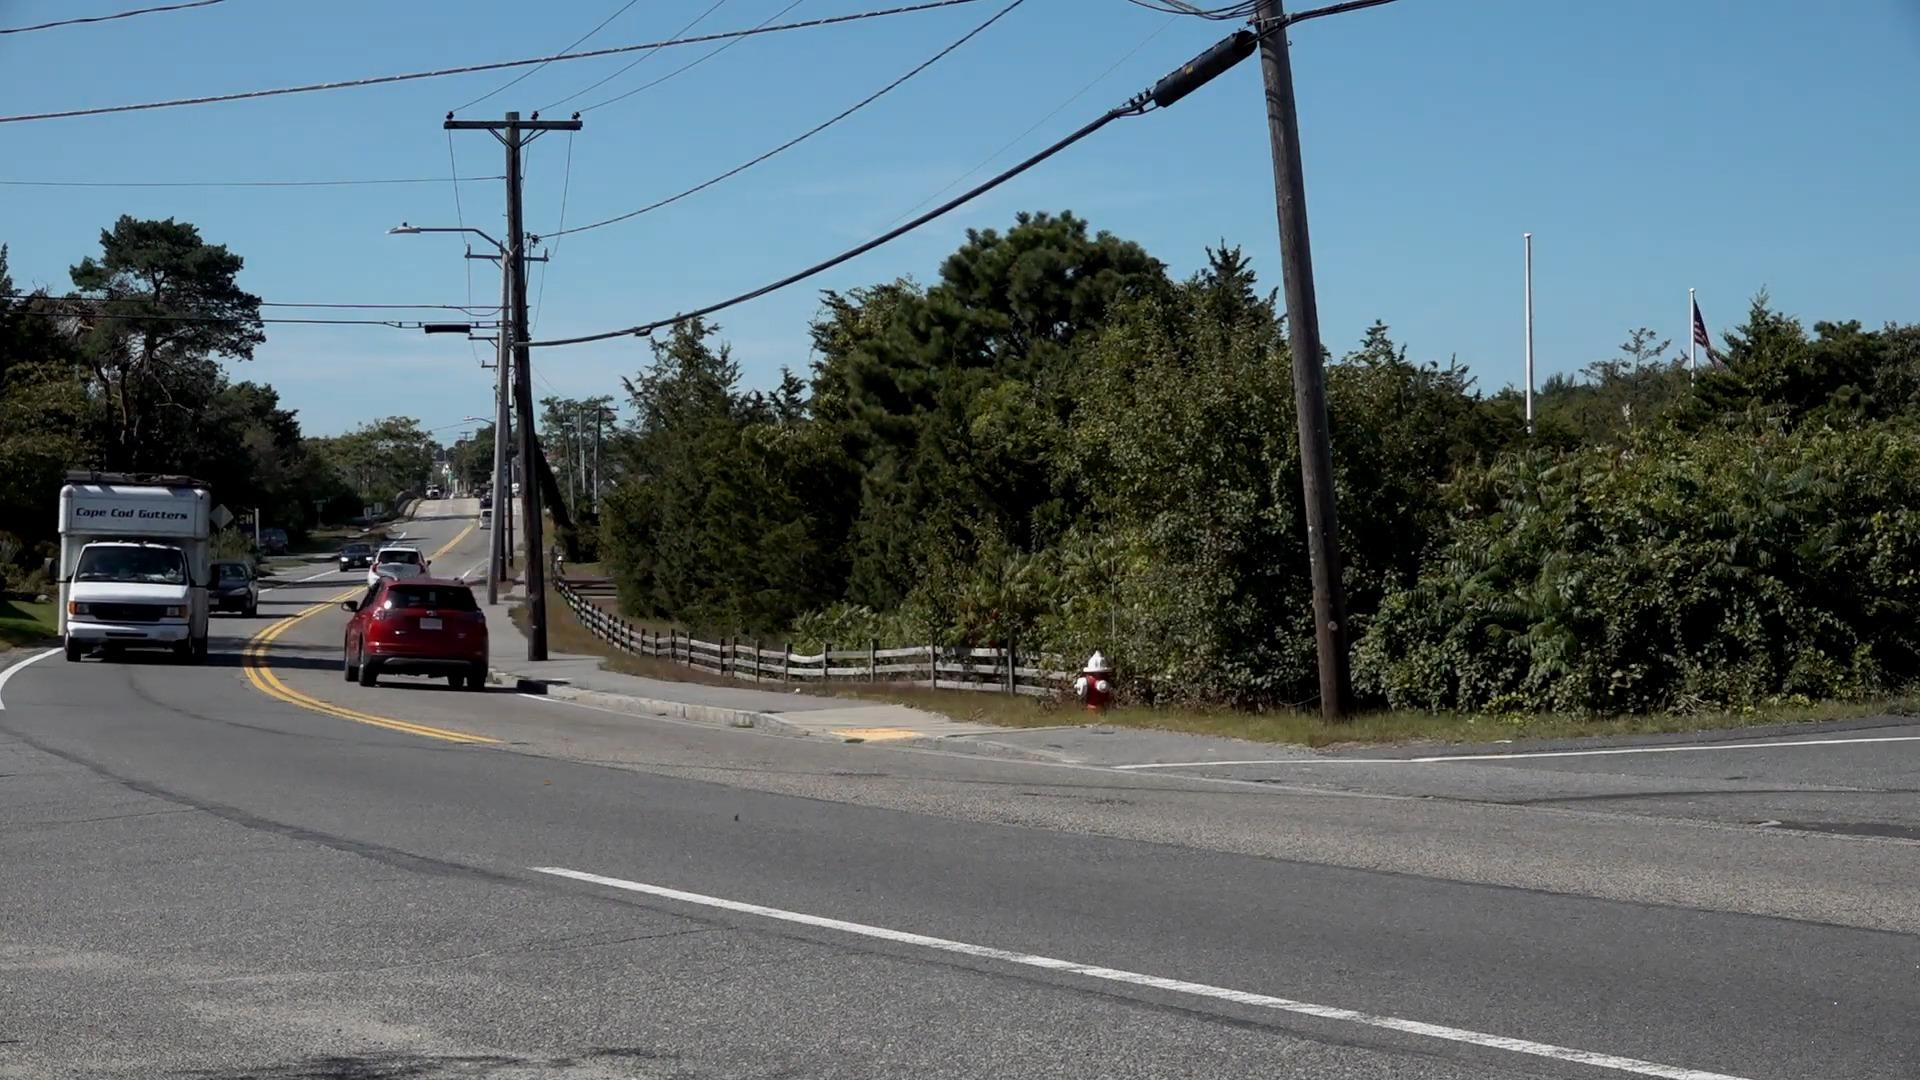suv: (344, 568, 488, 692)
truck: (58, 475, 212, 659)
